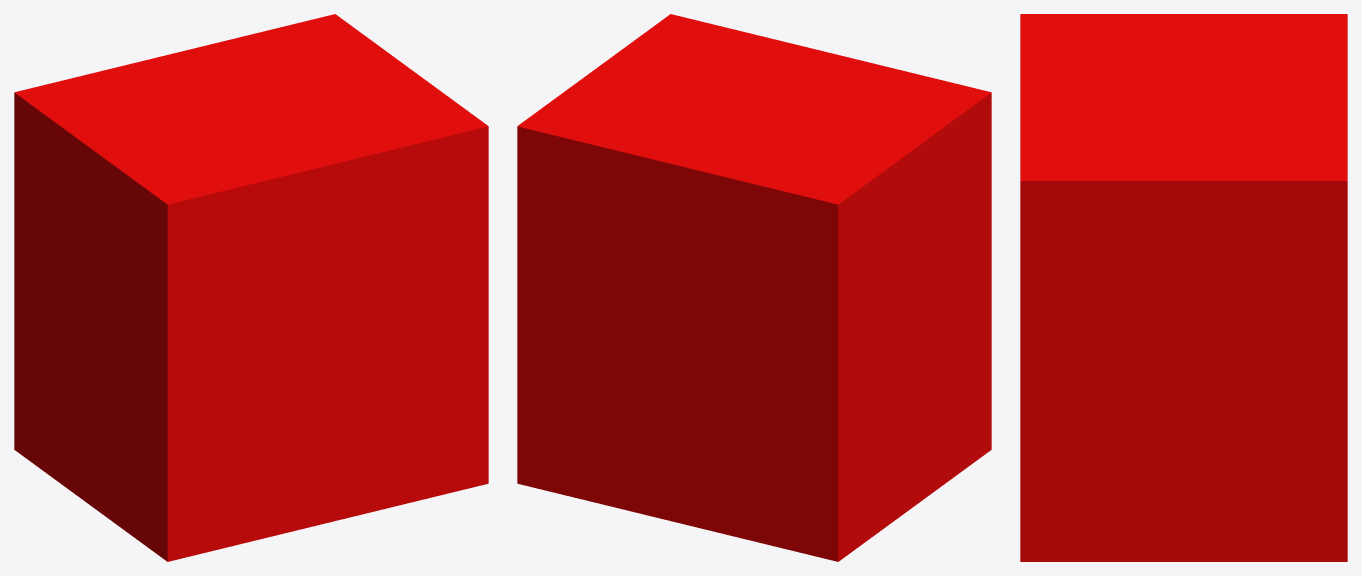
File: lunate_lvs_col.dae
3 views of the same model, side by side, from view 1: azimuth 30°, elevation 25°; view 2: azimuth 150°, elevation 25°; view 3: azimuth 270°, elevation 25° (orthographic). The views are drawn at different scales.
Parts seen in each view (by area): view 1: node0; view 2: node0; view 3: node0.
Boxes of the visible parts, x1=… form: node0: x1=14, y1=14, x2=488, y2=561; node0: x1=517, y1=14, x2=991, y2=561; node0: x1=1020, y1=14, x2=1347, y2=561.
Size of the model in its own units: 0.0187 by 0.0199 by 0.0155.
